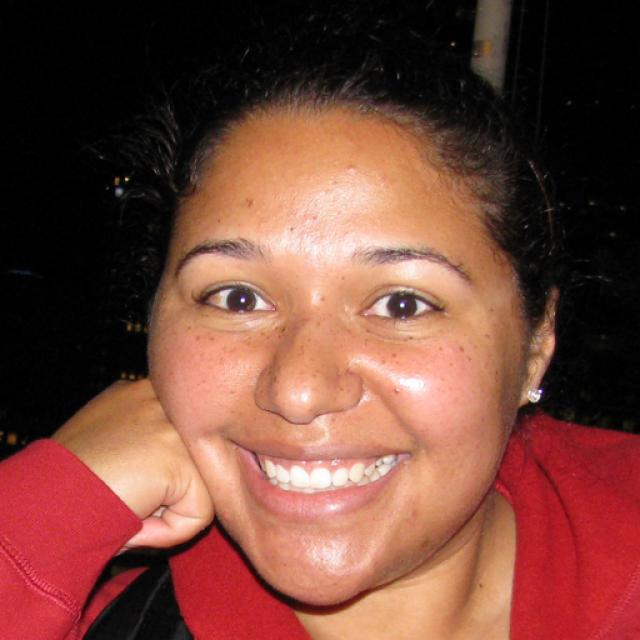Acne: (380, 381, 410, 405), (342, 155, 364, 175)
Pigmentation: (262, 313, 360, 400), (346, 322, 486, 375)
